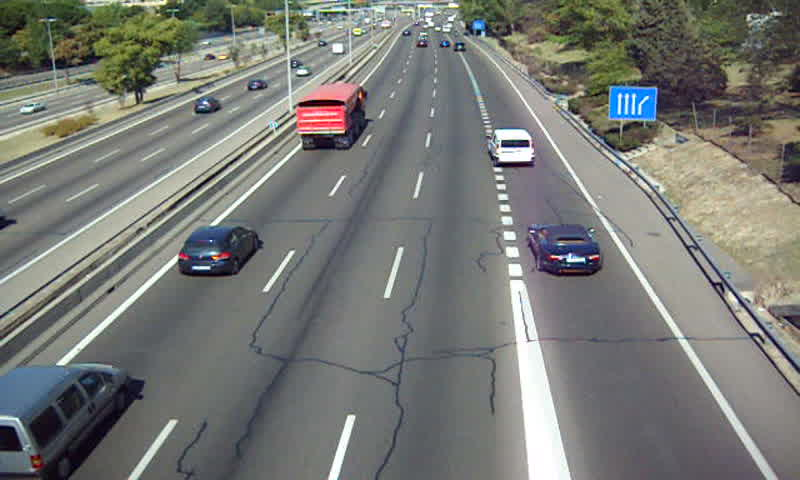car: (180, 227, 257, 276), (530, 224, 602, 275)
truck: (297, 84, 362, 151)
van: (1, 364, 124, 480), (489, 129, 533, 167)
